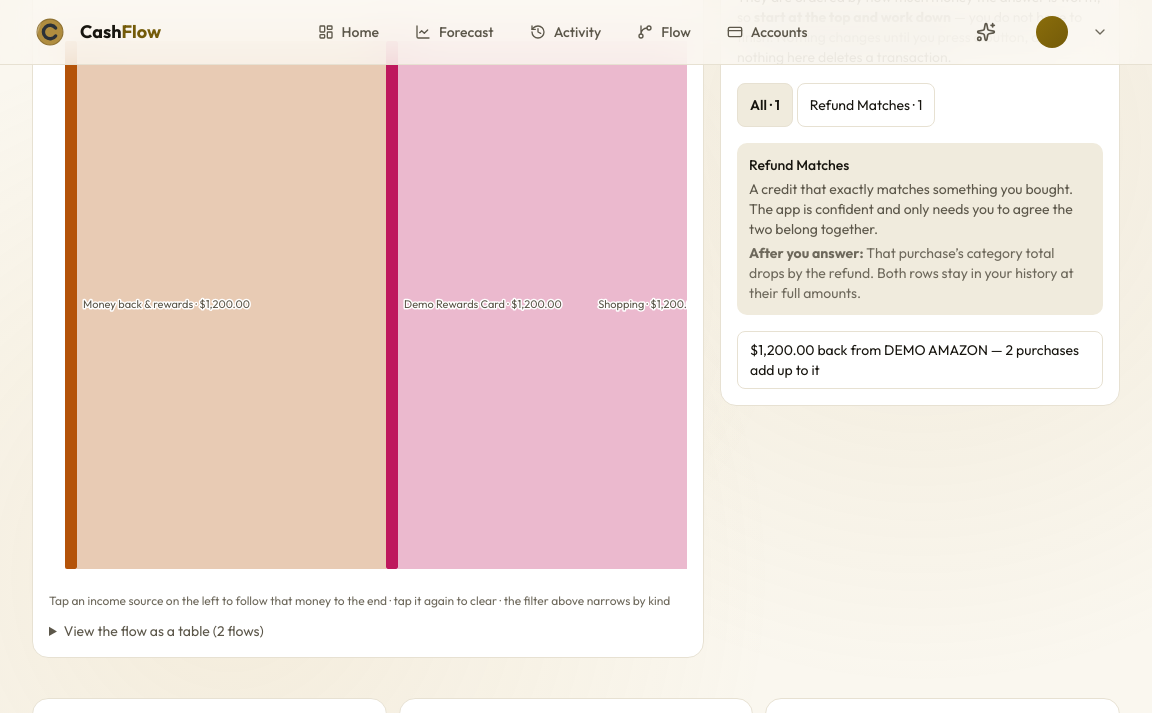
Test: FIN-RECOVERY-UI-001 · confirmation and editing (F1-F8) › F7 — undo restores the previous status, rejects the created links, and is gone once the panel closes
(page scrolled)
Click the button "$1,200.00 back from DEMO AMAZON — 2 purchases add up to it".
click(920, 360)  # box [737,331,1103,389]
(page scrolled)
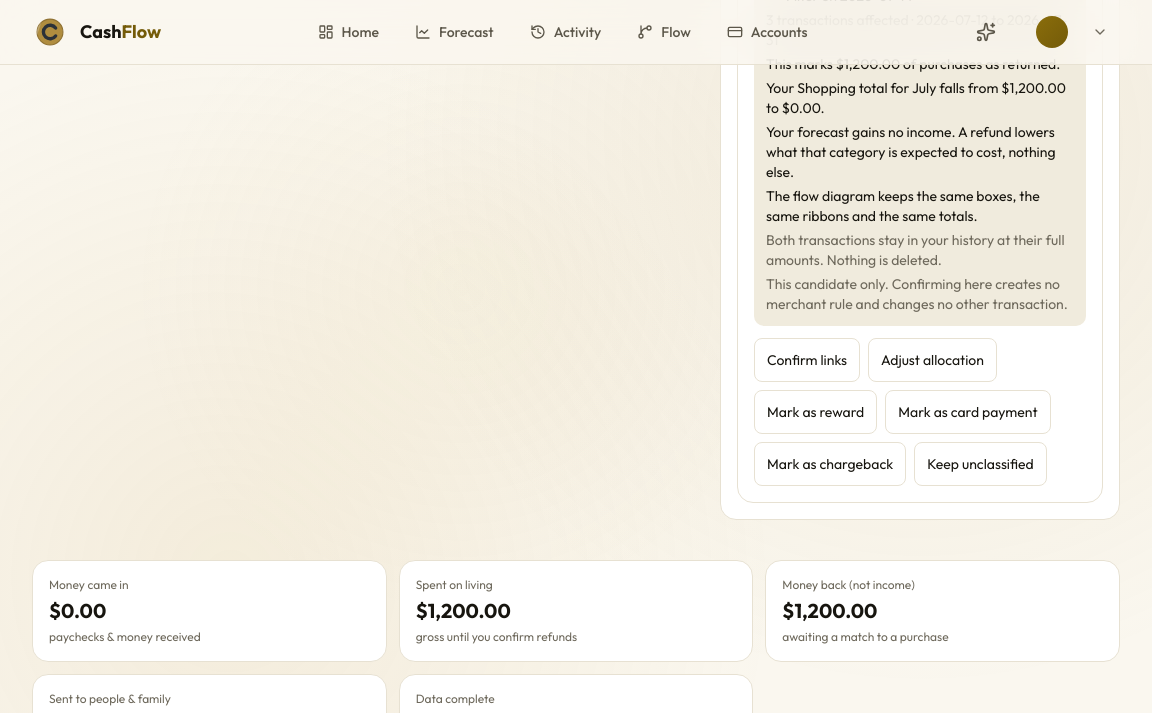
Click the button "Confirm links".
click(807, 360)  # box [754,338,860,382]
(page scrolled)
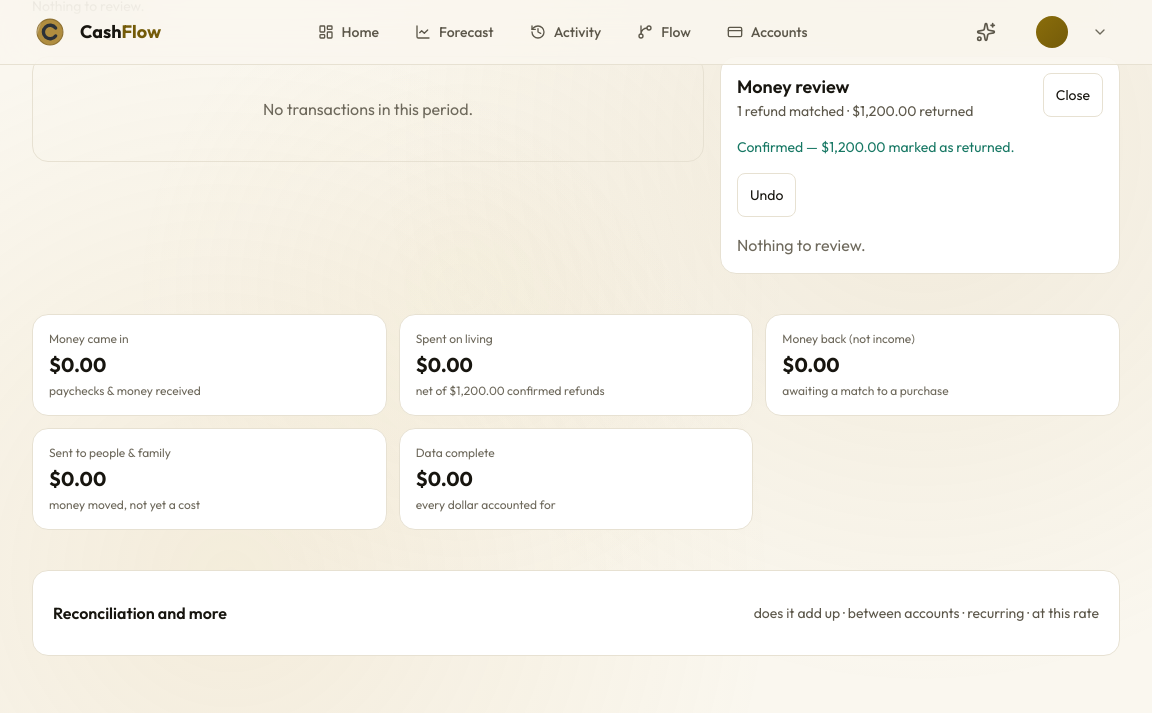
Click the button "Undo".
click(767, 195)  # box [737,173,796,217]
(page scrolled)
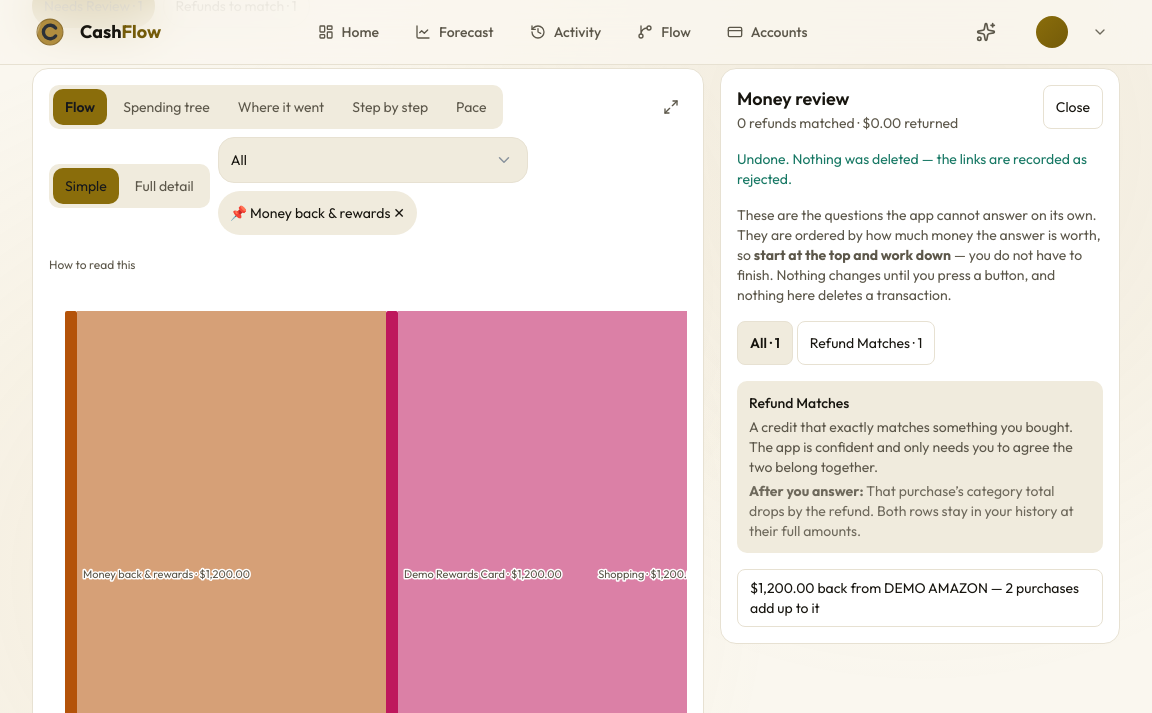
Result: the text "Undone. Nothing was deleted" is shown at [737,150,1087,188]
Result: the button "$1,200.00 back from DEMO AMAZON — 2 purchases add up to it" is shown at [737,569,1103,627]
Click the button with aria-label "Close money review".
click(1073, 107)  # box [1043,85,1103,129]
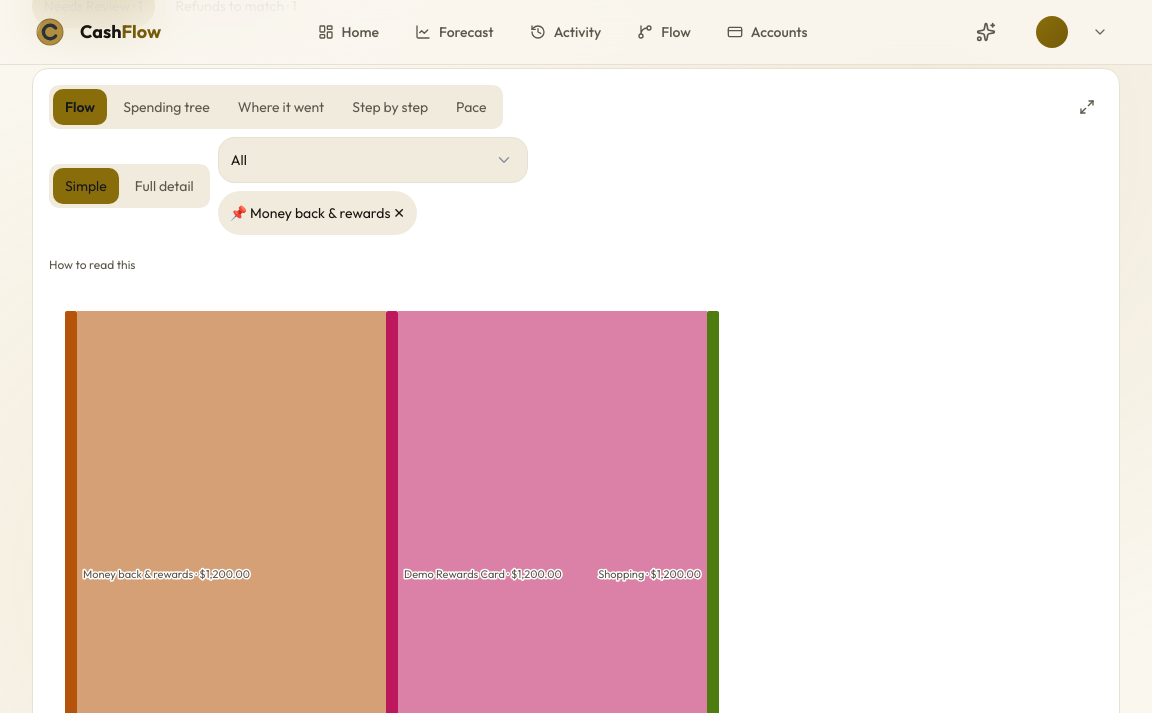
Result: the text "Undo" is gone
